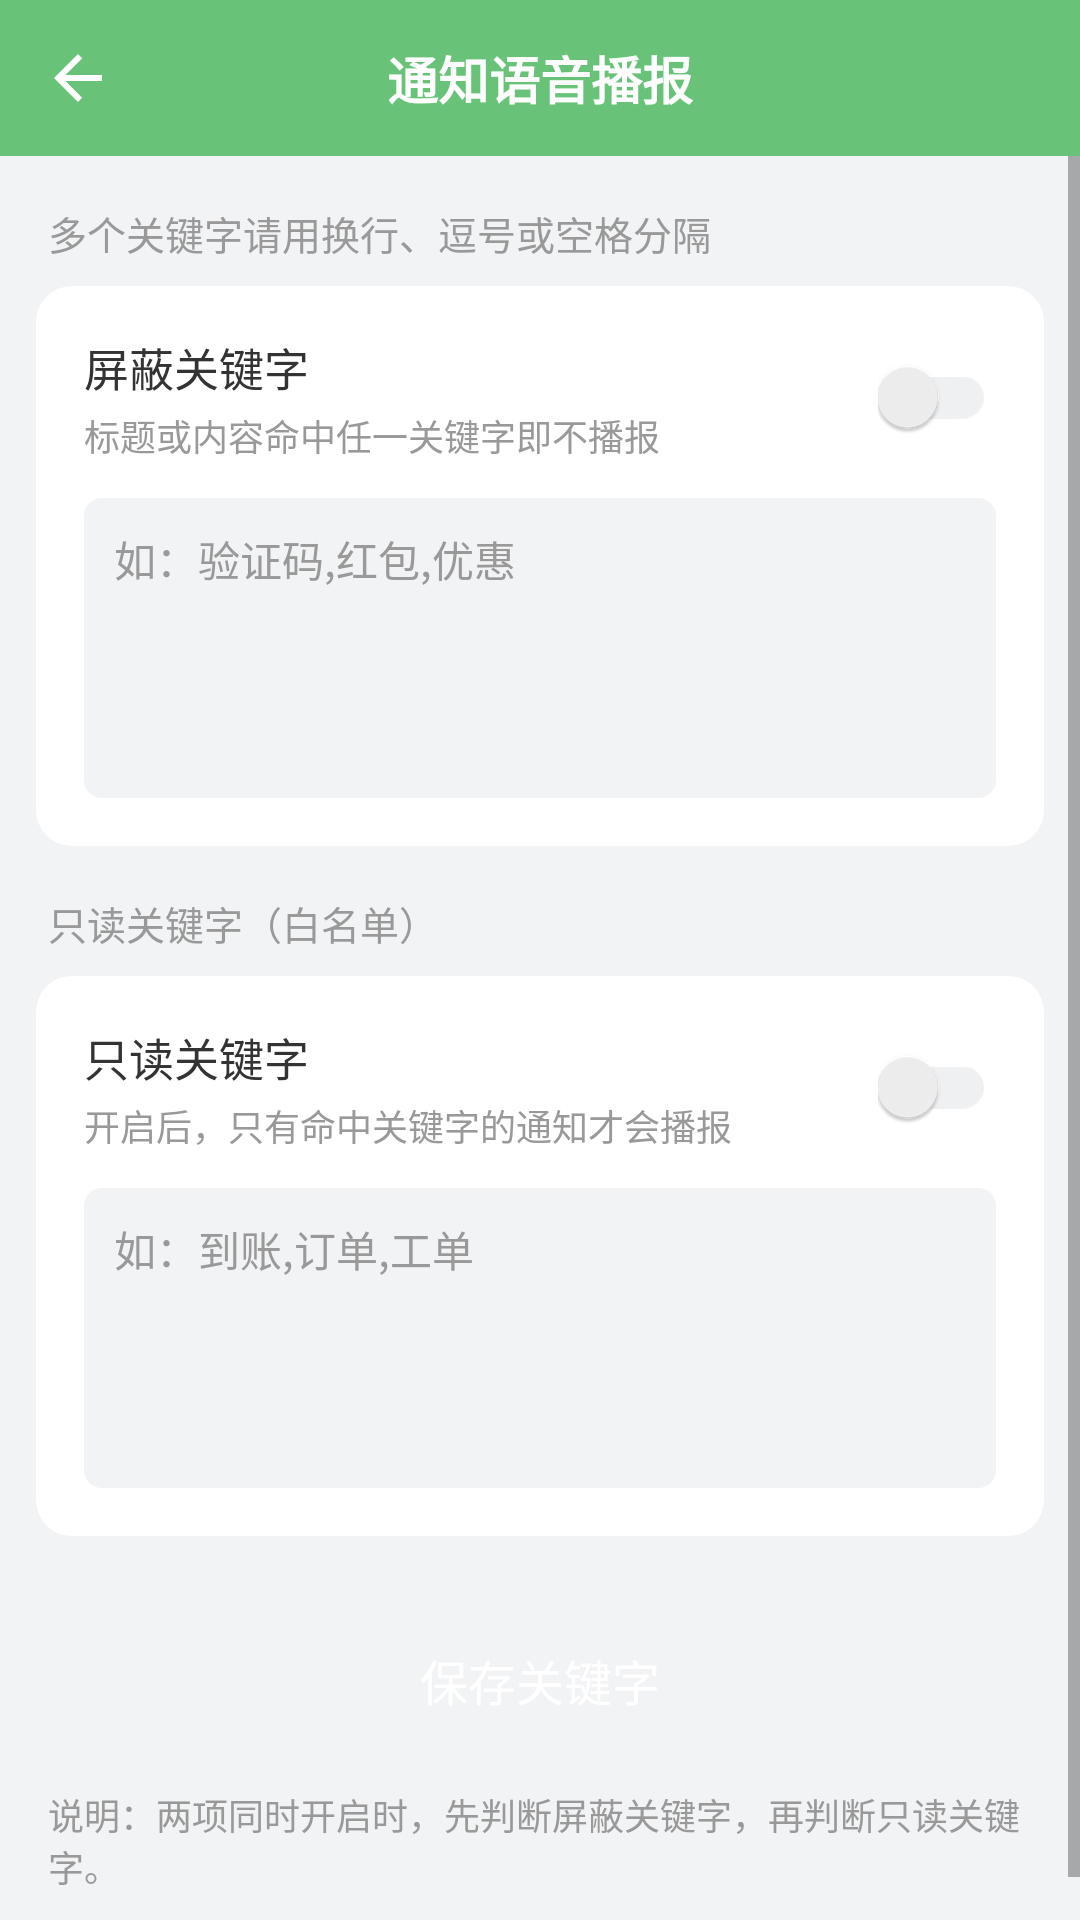

Icons on this 1080*1920 Android screen, each with its box as (x1, y1, x2, y2):
back: (54, 54, 102, 102)
